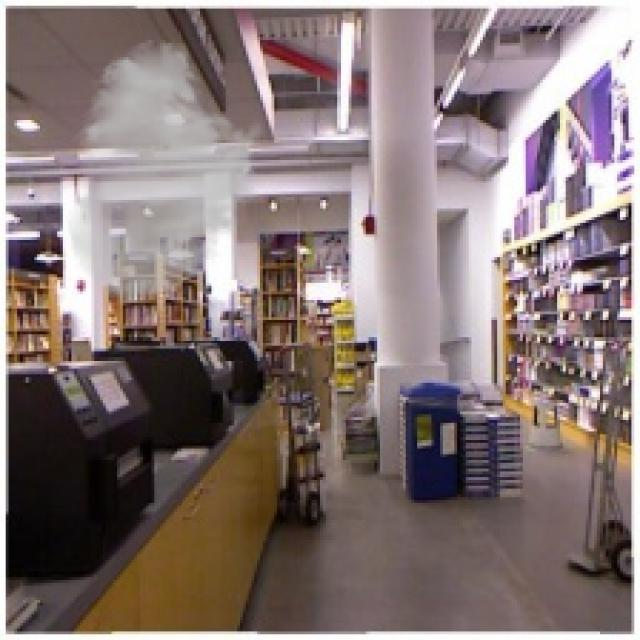Smoke: (66, 37, 266, 309)
